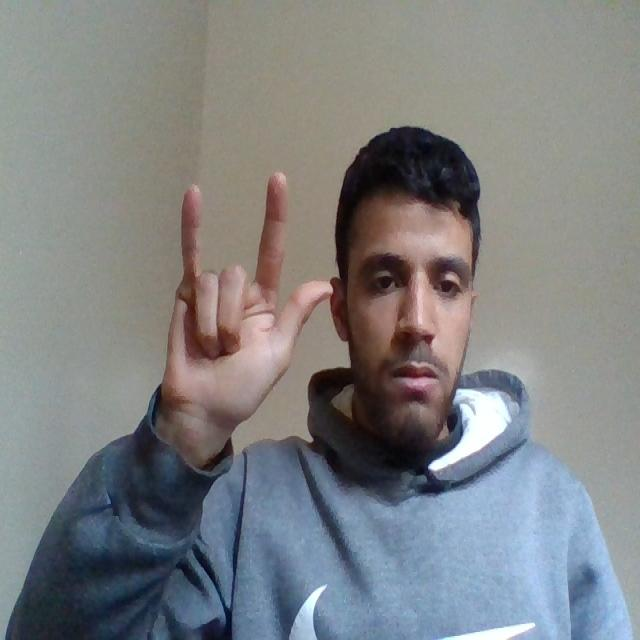I Love You: (158, 168, 335, 429)
